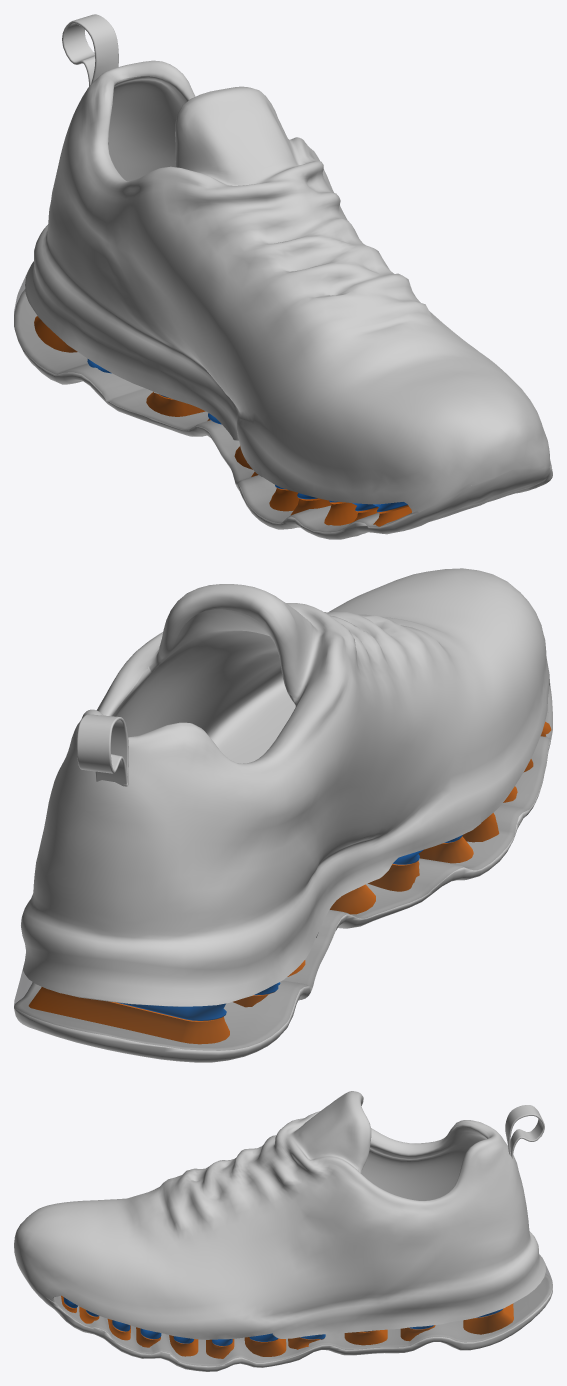
The picture shows the model from 3 angles, top to bottom: view 1: azimuth 30°, elevation 25°; view 2: azimuth 150°, elevation 25°; view 3: azimuth 270°, elevation 25°; orthographic projection. The views are drawn at different scales.
Parts seen in each view (by area): view 1: di; view 2: di; view 3: di.
Boxes of the visible parts, box(x1,y1,x2,y2) form: di: box(14, 14, 552, 539); di: box(14, 568, 552, 1062); di: box(14, 1091, 552, 1371).
Bounding box in the file's own units: 115 × 133 × 289.
